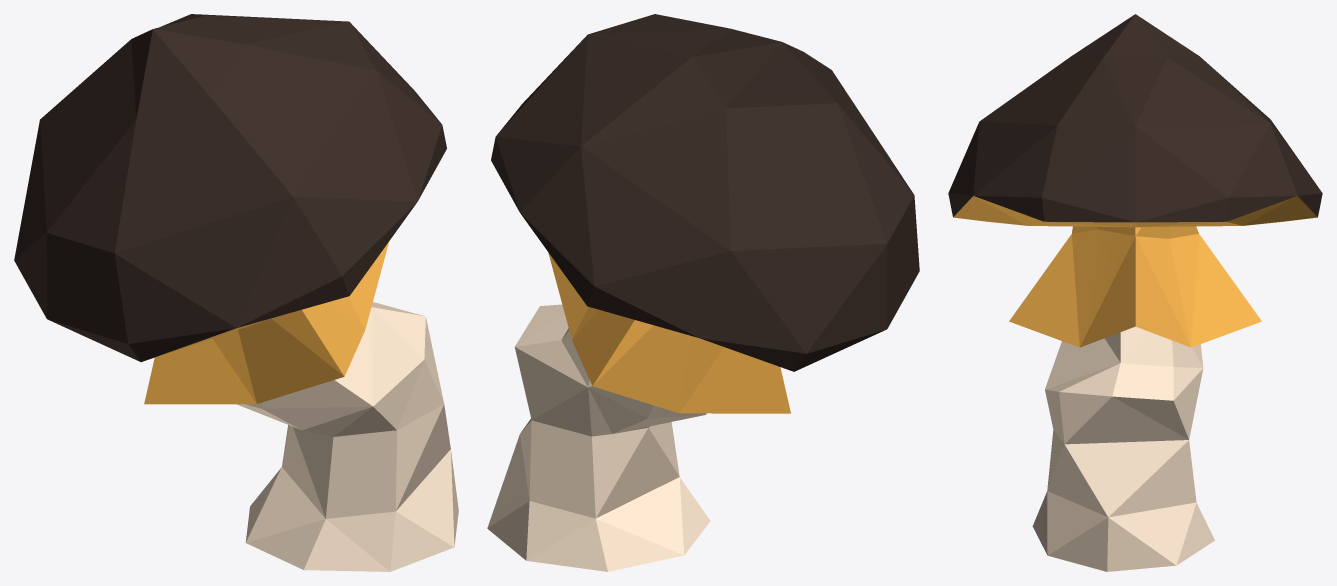
File: DefMashroom1.fbx
The picture shows the model from 3 angles, left to right: view 1: azimuth 30°, elevation 25°; view 2: azimuth 150°, elevation 25°; view 3: azimuth 270°, elevation 25°; orthographic projection. The views are drawn at different scales.
Parts seen in each view (by area): view 1: DefMashroom1; view 2: DefMashroom1; view 3: DefMashroom1.
Boxes of the visible parts, x1,y1,x2,y2 form: DefMashroom1: [14, 14, 458, 571]; DefMashroom1: [487, 14, 919, 571]; DefMashroom1: [948, 14, 1322, 571].
Size of the model in its own units: 26.84 by 35.06 by 26.89.
